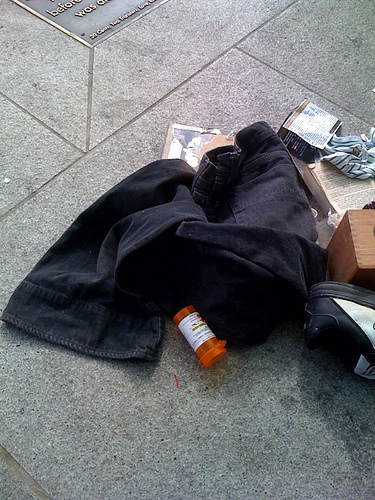pill bottle: (171, 304, 229, 370)
